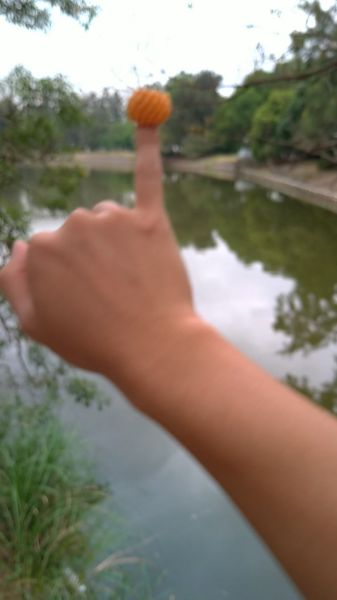eggs: (128, 89, 171, 127)
